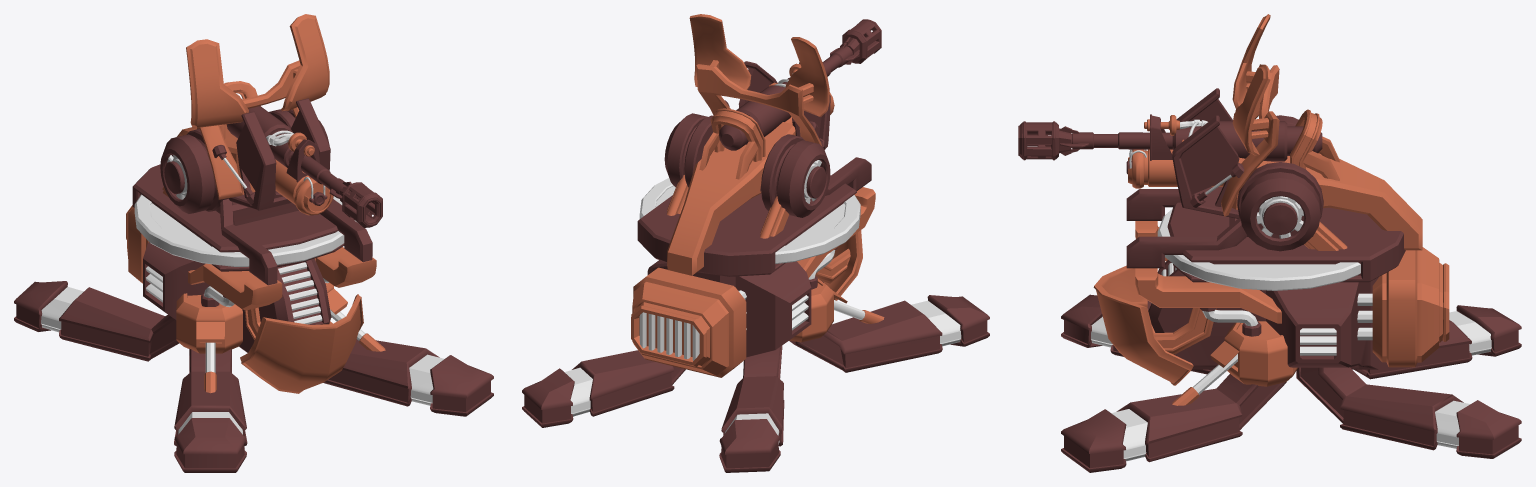
Rendered from top_gun_export_v003.fbx.
The picture shows the model from 3 angles, left to right: view 1: azimuth 30°, elevation 25°; view 2: azimuth 150°, elevation 25°; view 3: azimuth 270°, elevation 25°; orthographic projection. The views are drawn at different scales.
Parts seen in each view (by area): view 1: polySurface379, pCube218, pCylinder185, pCube225, pPipe2, polySurface380; view 2: polySurface379, pCube218, pCube225, pCylinder185, polySurface380, pPipe2; view 3: polySurface379, pCube218, pCylinder185, pCube225, polySurface380, pPipe2.
Boxes of the visible parts, x1,y1,x2,y2 form: polySurface379: [14, 242, 493, 472]; pCube218: [132, 98, 382, 285]; pCylinder185: [126, 205, 385, 393]; pCube225: [162, 14, 333, 215]; pPipe2: [134, 130, 357, 266]; polySurface380: [41, 262, 444, 434]; polySurface379: [522, 247, 989, 472]; pCube218: [637, 19, 881, 276]; pCube225: [666, 14, 834, 275]; pCylinder185: [631, 187, 884, 377]; polySurface380: [564, 250, 961, 444]; pPipe2: [639, 73, 860, 263]; polySurface379: [1061, 260, 1521, 472]; pCube218: [1018, 88, 1405, 282]; pCylinder185: [1093, 221, 1449, 405]; pCube225: [1128, 14, 1422, 250]; polySurface380: [1091, 263, 1491, 461]; pPipe2: [1129, 119, 1360, 290].
Size of the model in its own units: 55.61 by 58.99 by 75.95.
